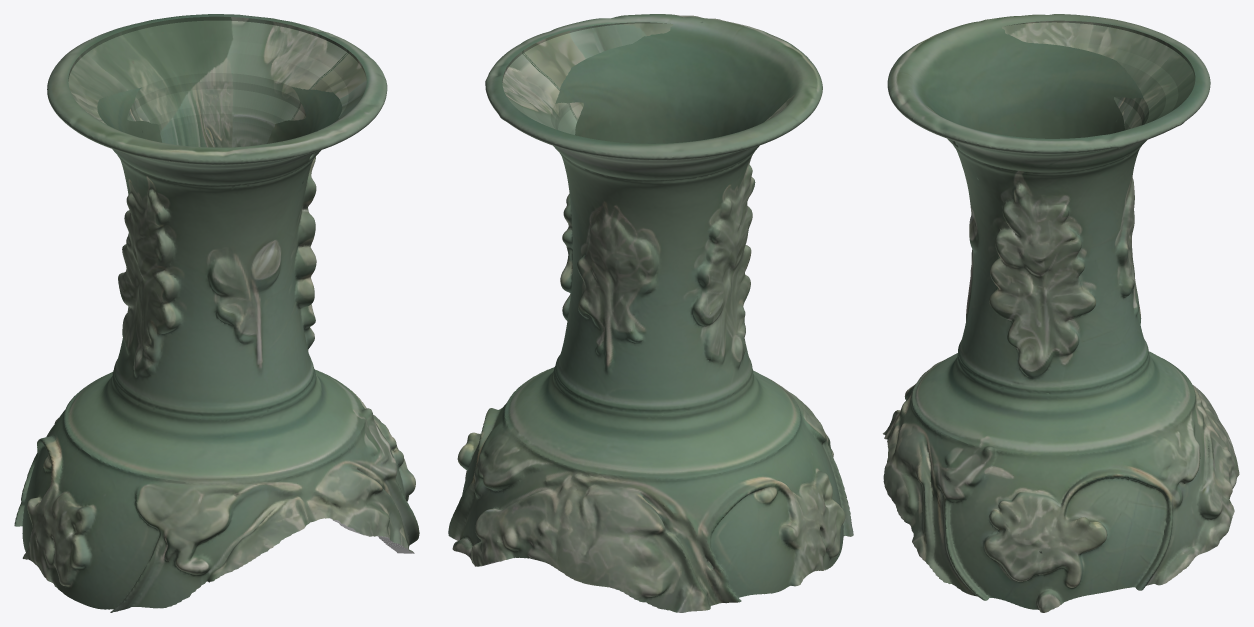
File: broken-body.glb
The picture shows the model from 3 angles, left to right: view 1: azimuth 30°, elevation 25°; view 2: azimuth 150°, elevation 25°; view 3: azimuth 270°, elevation 25°; orthographic projection. The views are drawn at different scales.
Parts seen in each view (by area): view 1: broken_body; view 2: broken_body; view 3: broken_body.
Part boxes in pixels (<box>): broken_body: <box>14,14,419,612</box>; broken_body: <box>448,14,853,612</box>; broken_body: <box>882,14,1239,612</box>.
Bounding box in the file's own units: 0.4526 × 0.5901 × 0.4199.
2 materials, 1 textured.
